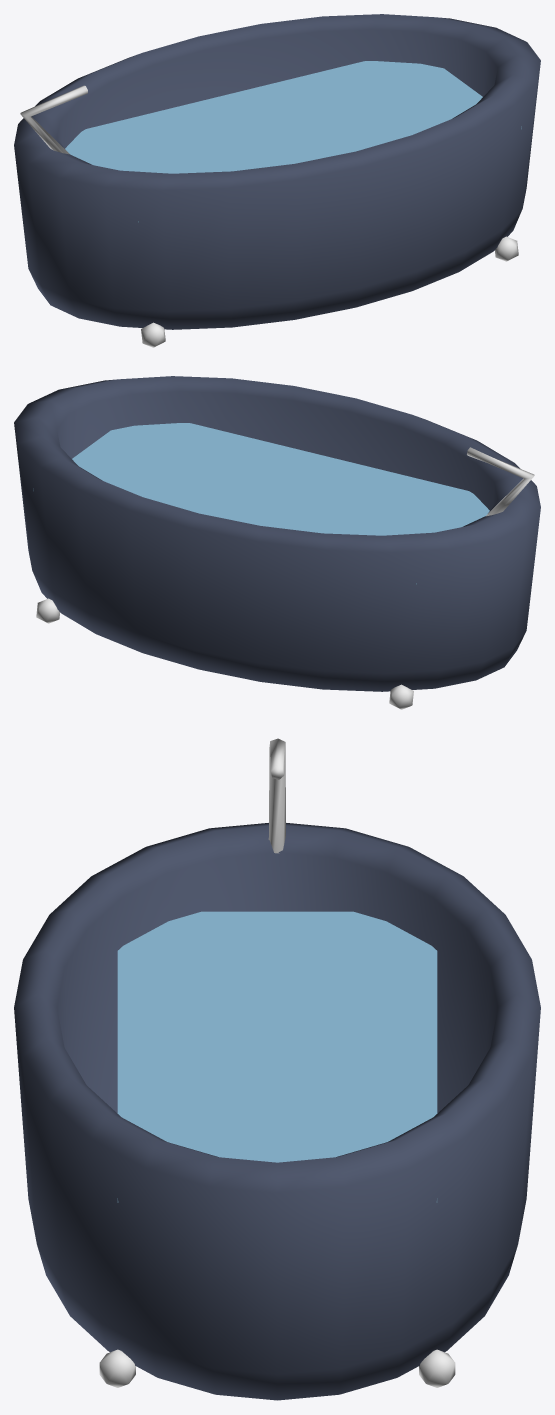
File: granite_bathtub_v0.glb
3 views of the same model, one above another, from view 1: azimuth 30°, elevation 25°; view 2: azimuth 150°, elevation 25°; view 3: azimuth 270°, elevation 25° (orthographic). The views are drawn at different scales.
Visible parts, largest first — view 1: granite_bathtub_v0; view 2: granite_bathtub_v0; view 3: granite_bathtub_v0.
Boxes of the visible parts, x1,y1,x2,y2 form: granite_bathtub_v0: (14,14,540,347); granite_bathtub_v0: (14,376,540,709); granite_bathtub_v0: (14,738,540,1400).
Bounding box in the file's own units: 2.51 × 1.08 × 1.49.
